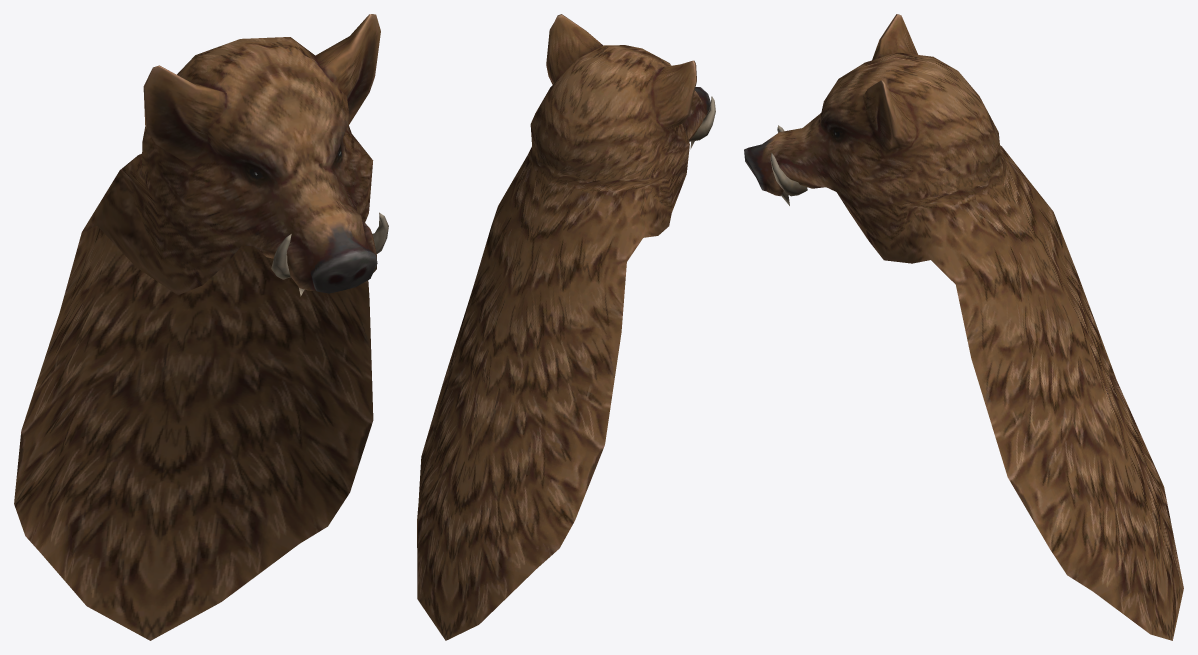
The model's file is helmet-heavyinfantry.glb.
The picture shows the model from 3 angles, left to right: view 1: azimuth 30°, elevation 25°; view 2: azimuth 150°, elevation 25°; view 3: azimuth 270°, elevation 25°; orthographic projection. The views are drawn at different scales.
Size of the model in its own units: 0.4513 by 1.08 by 0.7589.
1 material, 1 textured.
